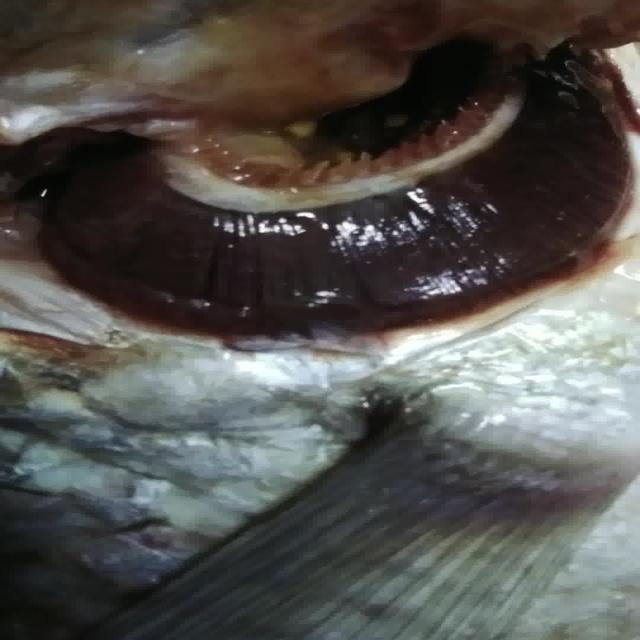Non-Fresh: (32, 20, 626, 351)
